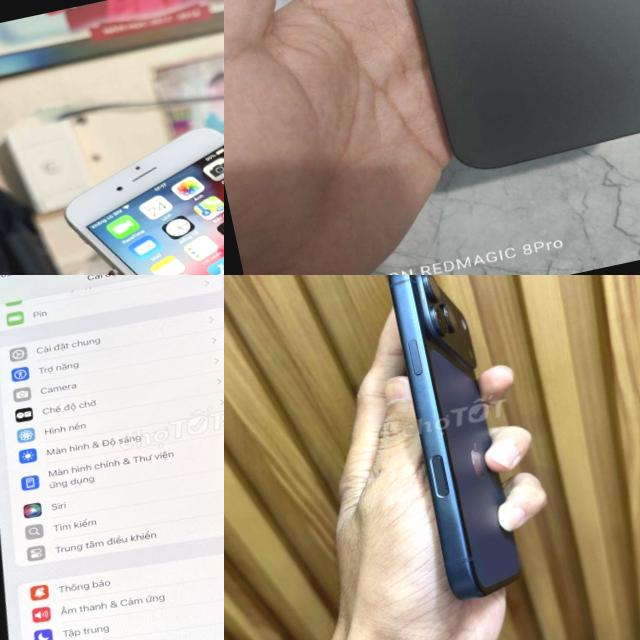gen_14: (337, 0, 640, 189)
gen_17: (372, 275, 554, 604)
gen_6: (47, 70, 224, 275)
gen_x_xs: (0, 275, 224, 640)
